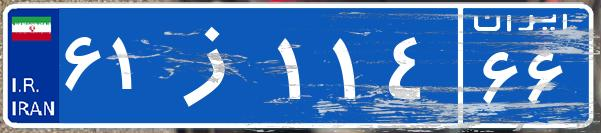1: (273, 28, 330, 110), (330, 28, 385, 110), (110, 28, 158, 105)
4: (385, 28, 445, 110)
6: (57, 26, 110, 107), (475, 38, 525, 113), (525, 38, 570, 115)
ز: (158, 15, 273, 115)
